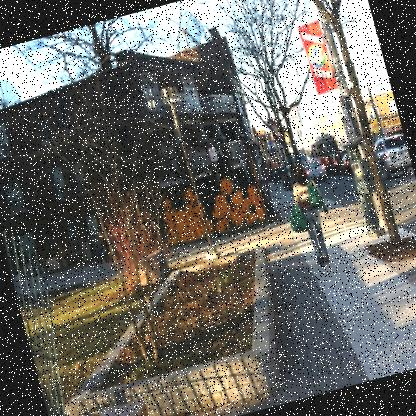Car: (370, 131, 414, 183), (300, 154, 329, 181)
